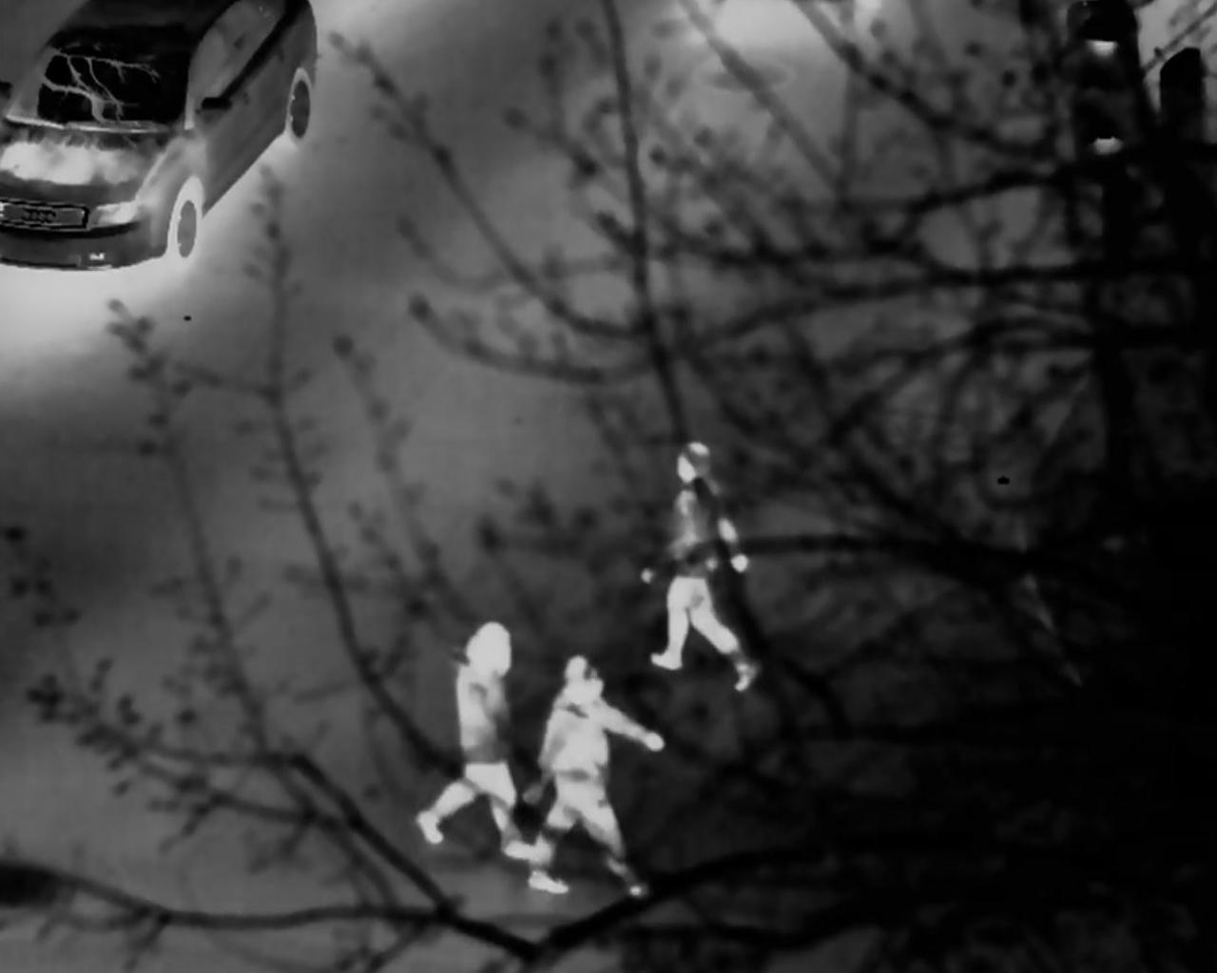person: (655, 424, 770, 682), (536, 659, 645, 887), (443, 617, 528, 850)
